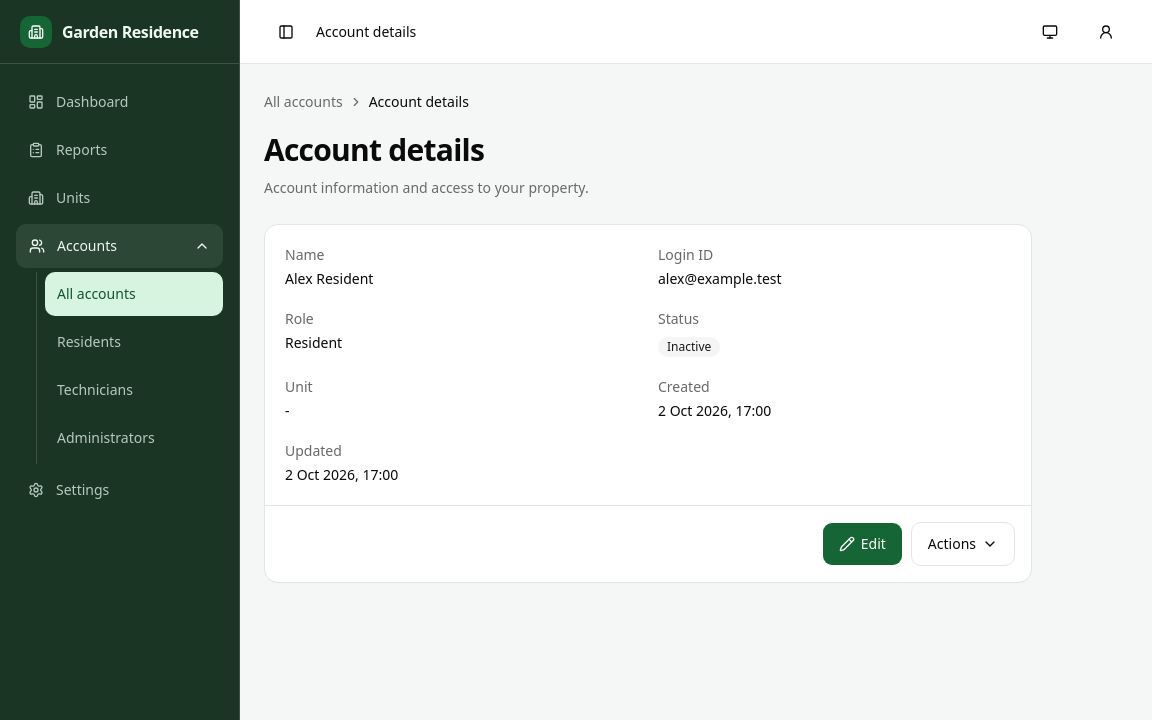
confirms activate and uses the appropriate endpoint
The width and height of the screenshot is (1152, 720).
Expected: the element named "Account information" is shown, [264,224,1032,583]
Click the button "Actions" at (963, 544), box [911,522,1015,566]
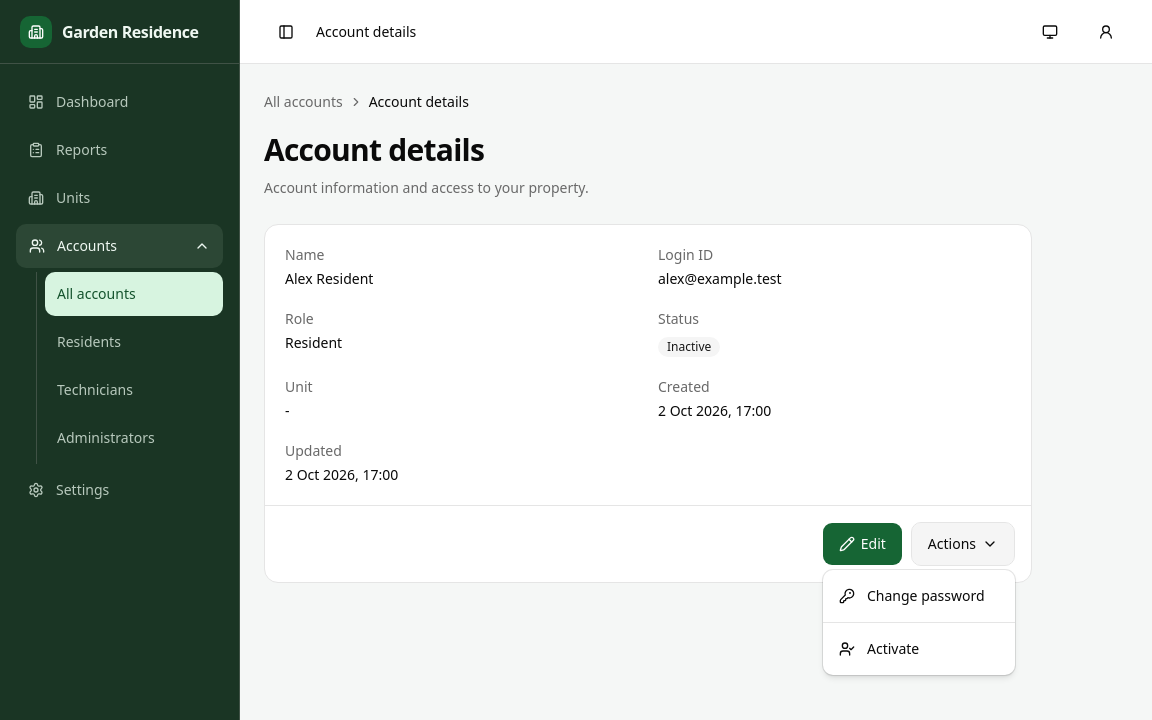
Click the menu item "Activate" at (879, 648), box [839,639,919,658]
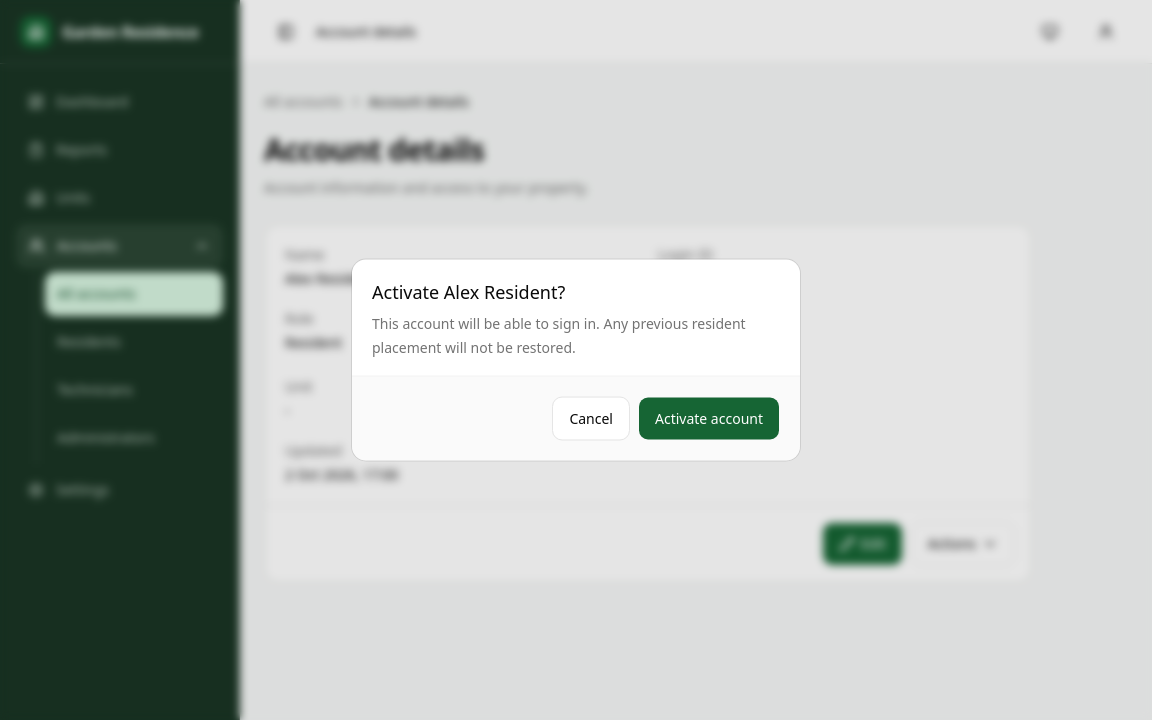
Expected: the dialog shows "placement will not be restored", [372,314,746,356]
Click the button "Activate account" at (709, 418), box [638,396,780,440]
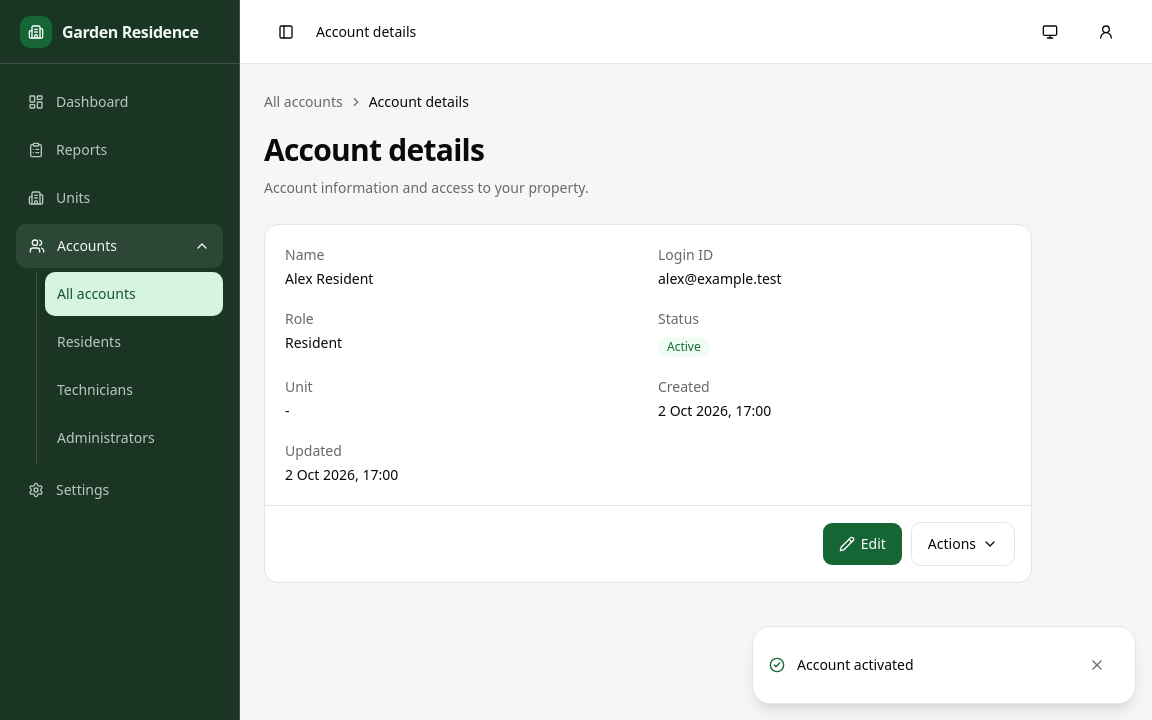
Expected: the heading "Activate Alex Resident?" is gone
